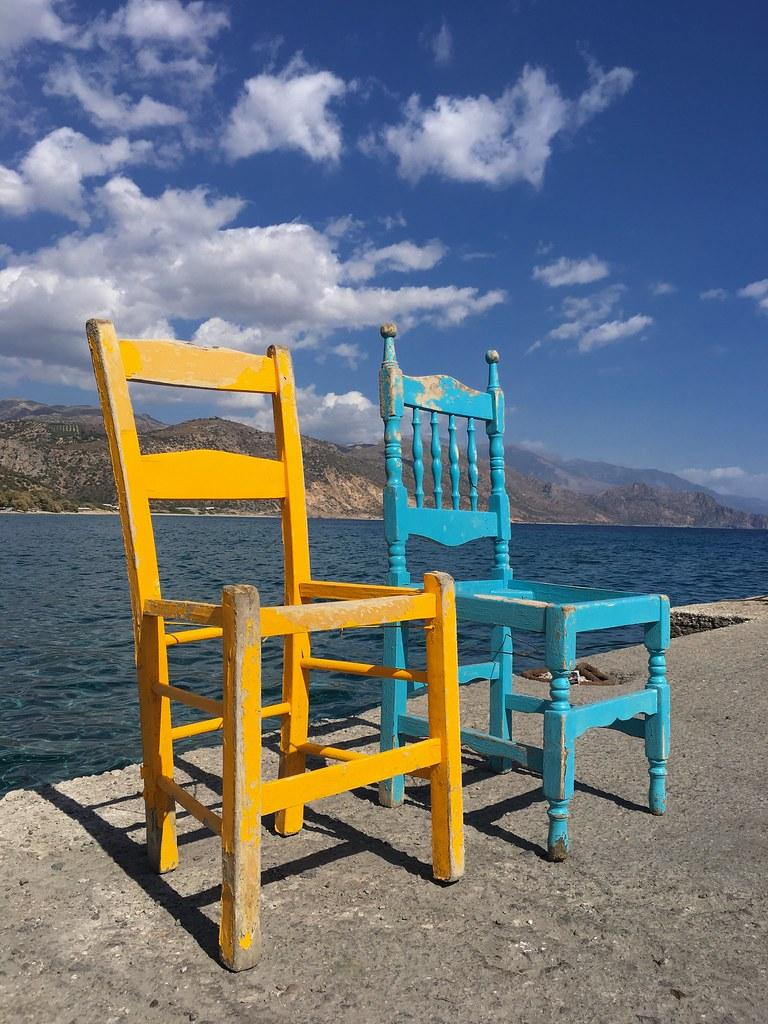chair: (85, 317, 467, 972), (377, 322, 673, 863)
